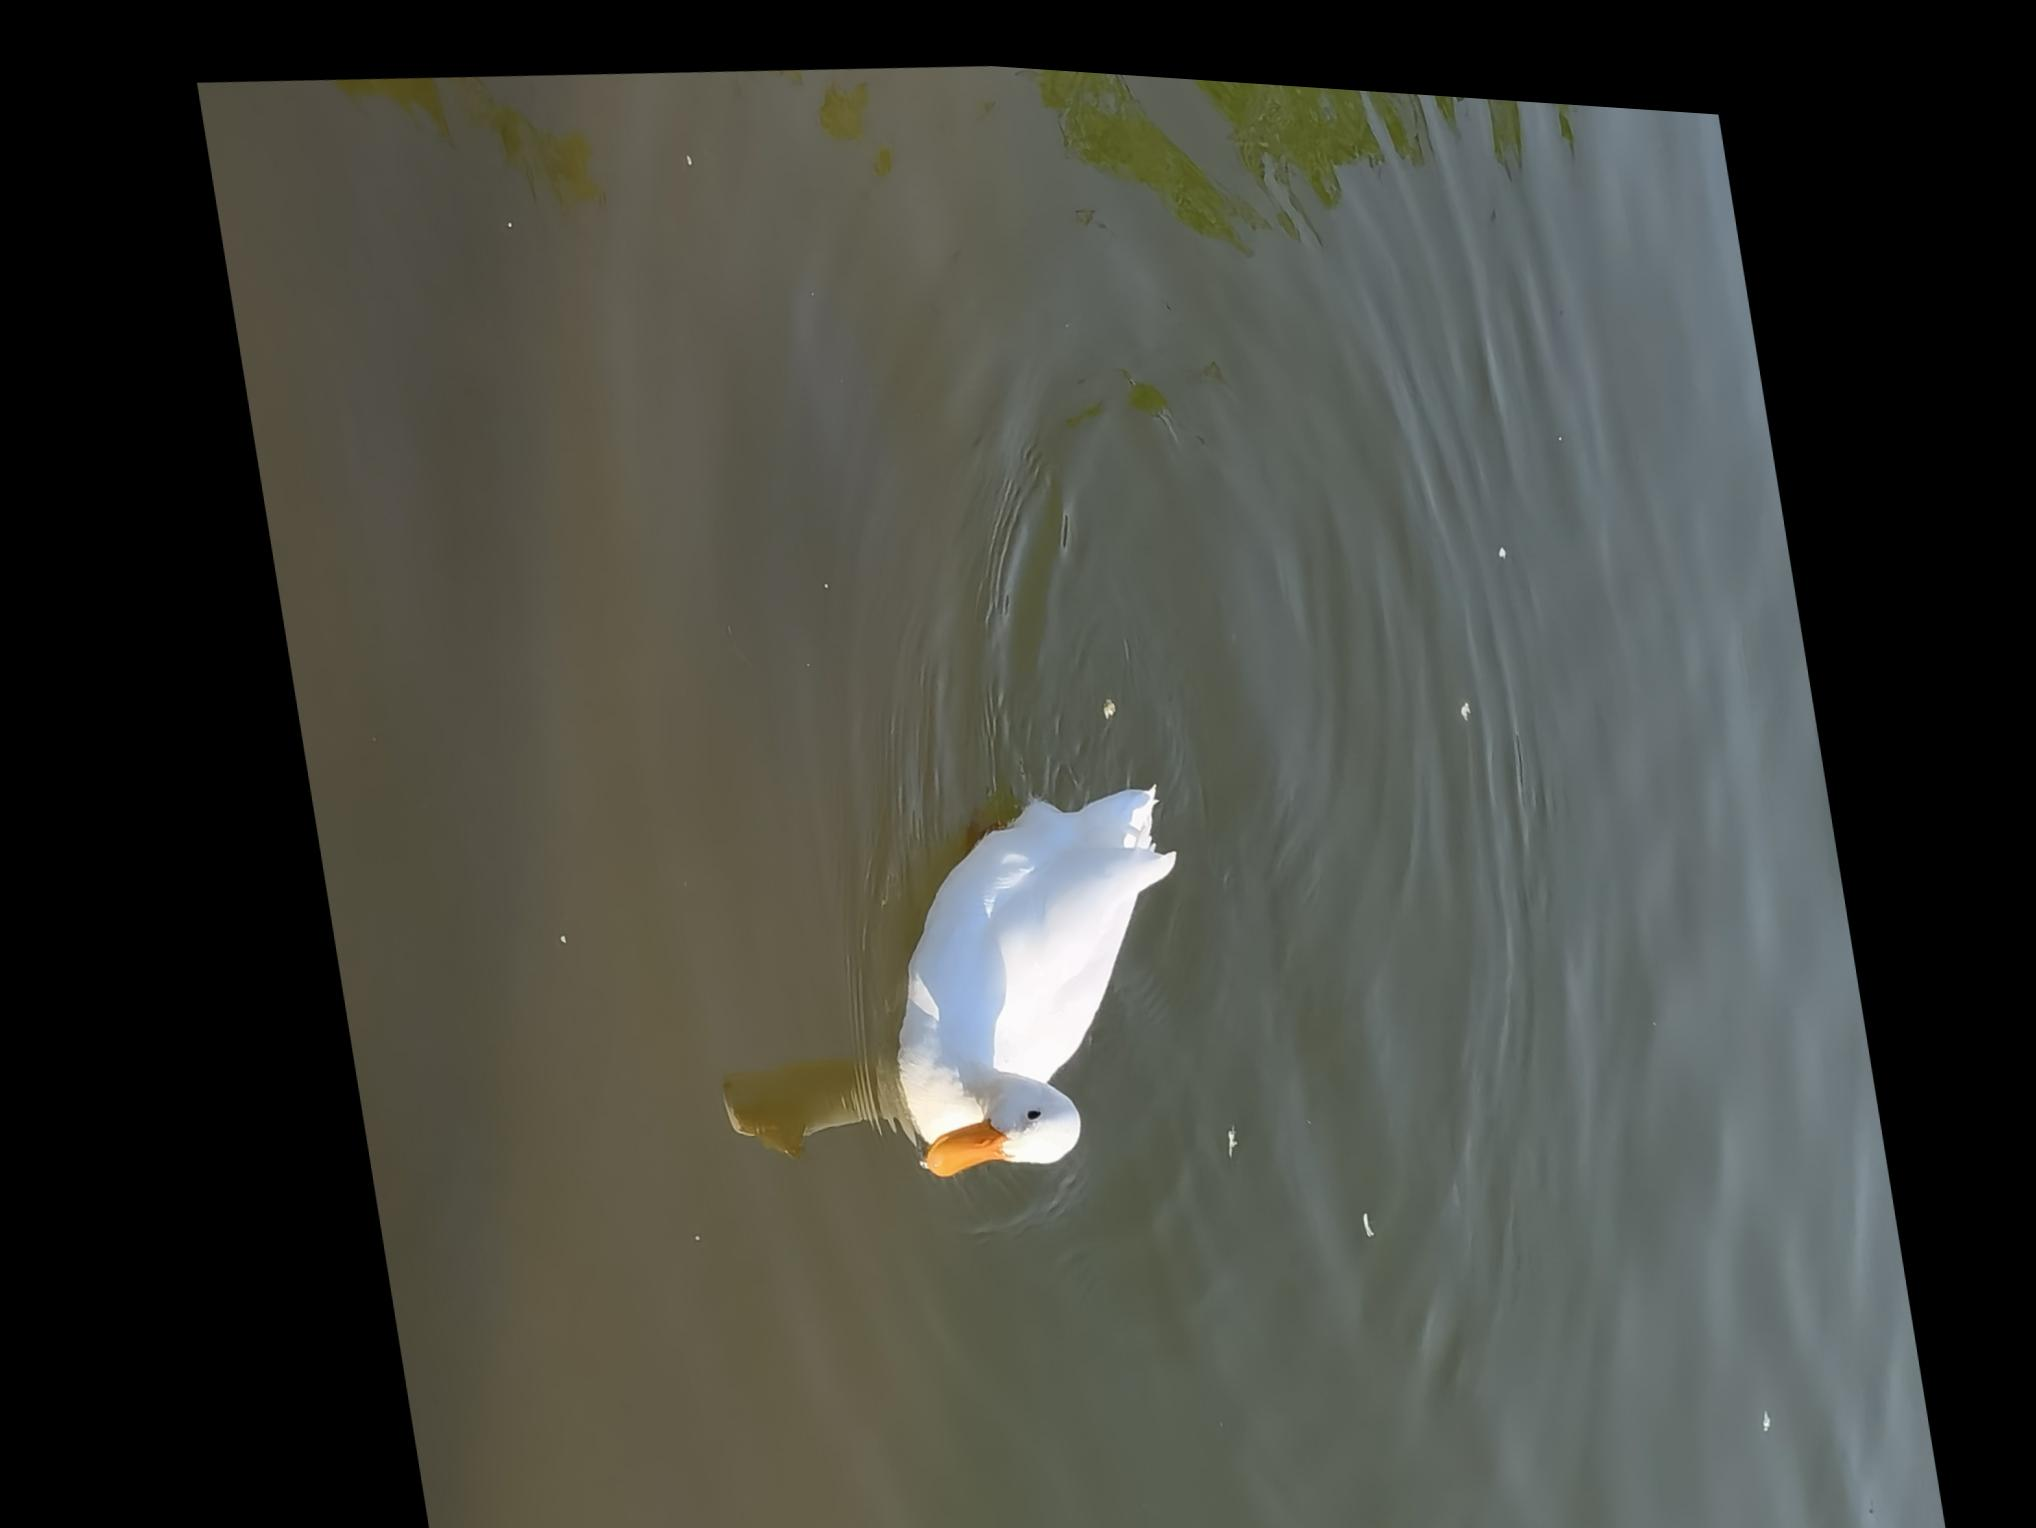duck: (821, 738, 1221, 1193)
